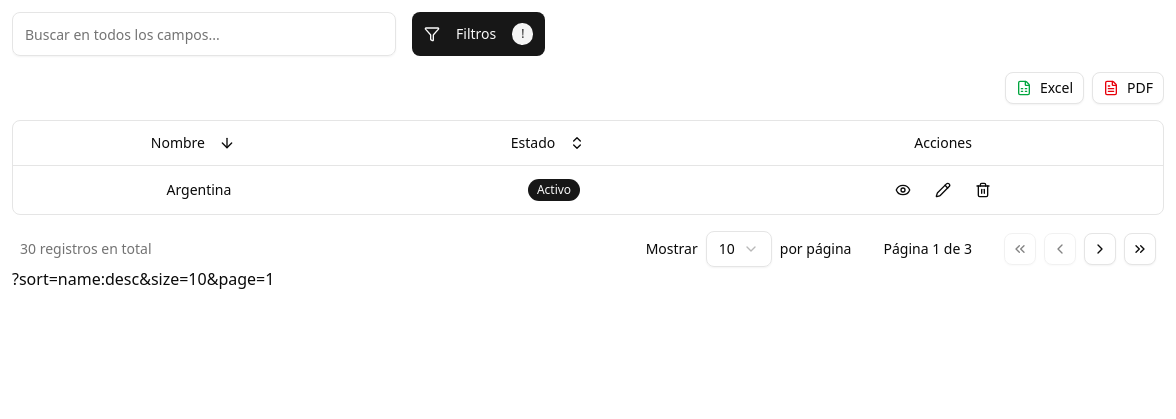
Test: CountriesTable sorting › retains the active sort across page and page-size changes
What coordinates should you click on to do the following:
click the 6th button named "Ir a la página siguiente"
I would click on:
 (1100, 249)
Its box is [1084, 233, 1116, 265].
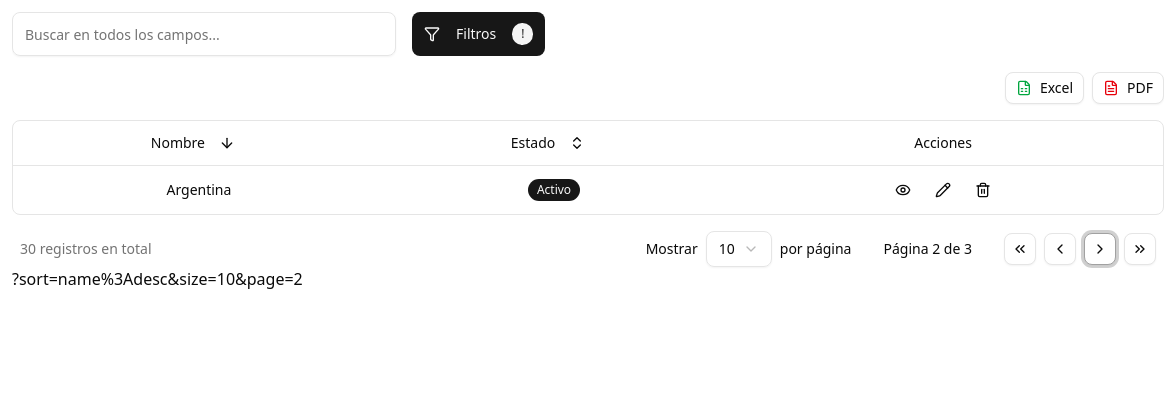
Expected: the text with test id "search" shows "sort=name%3Adesc", [12, 268, 303, 290]
Expected: the text with test id "search" shows "page=2", [12, 268, 303, 290]
What coordinates should you click on to do the following:
click the dropdown
I would click on:
 (739, 249)
Its box is [706, 231, 772, 267].
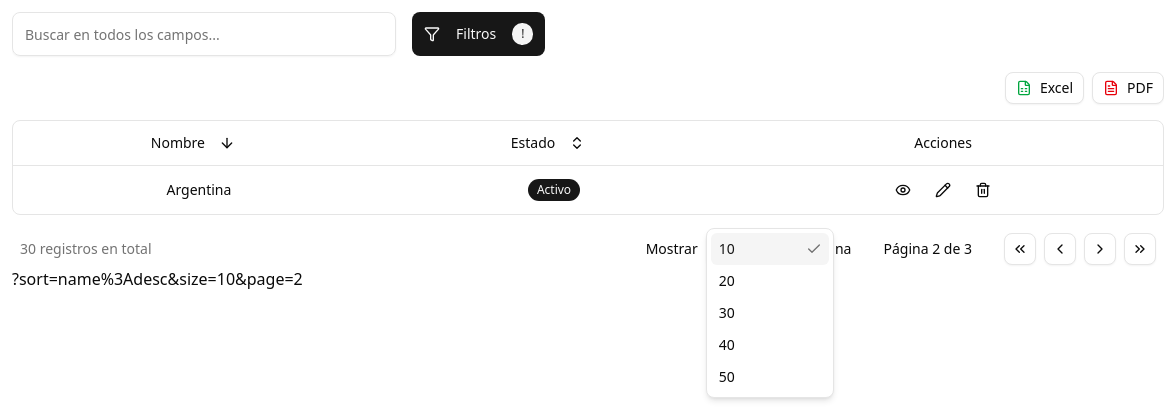
What coordinates should you click on to do the following:
click the option "20"
I would click on:
 (727, 280)
Its box is [719, 271, 735, 290].
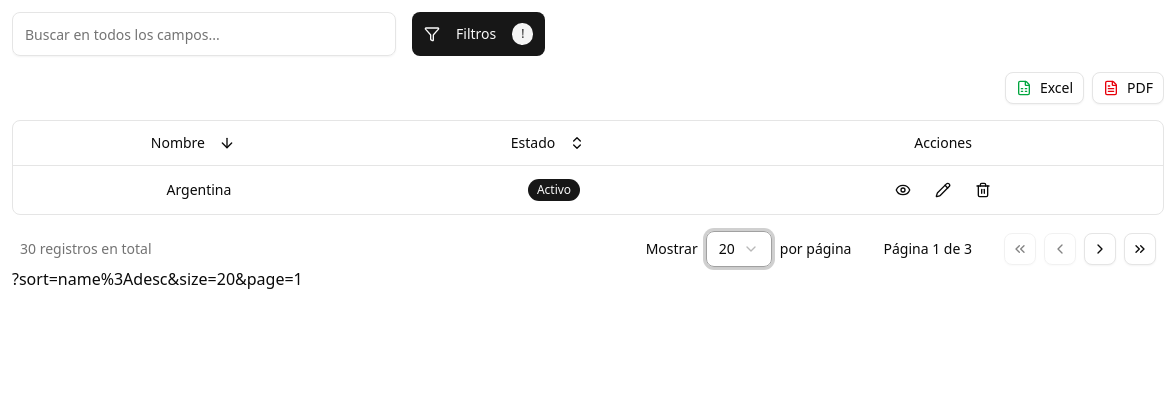
Expected: the text with test id "search" shows "sort=name%3Adesc", [12, 268, 303, 290]
Expected: the text with test id "search" shows "size=20", [12, 268, 303, 290]
